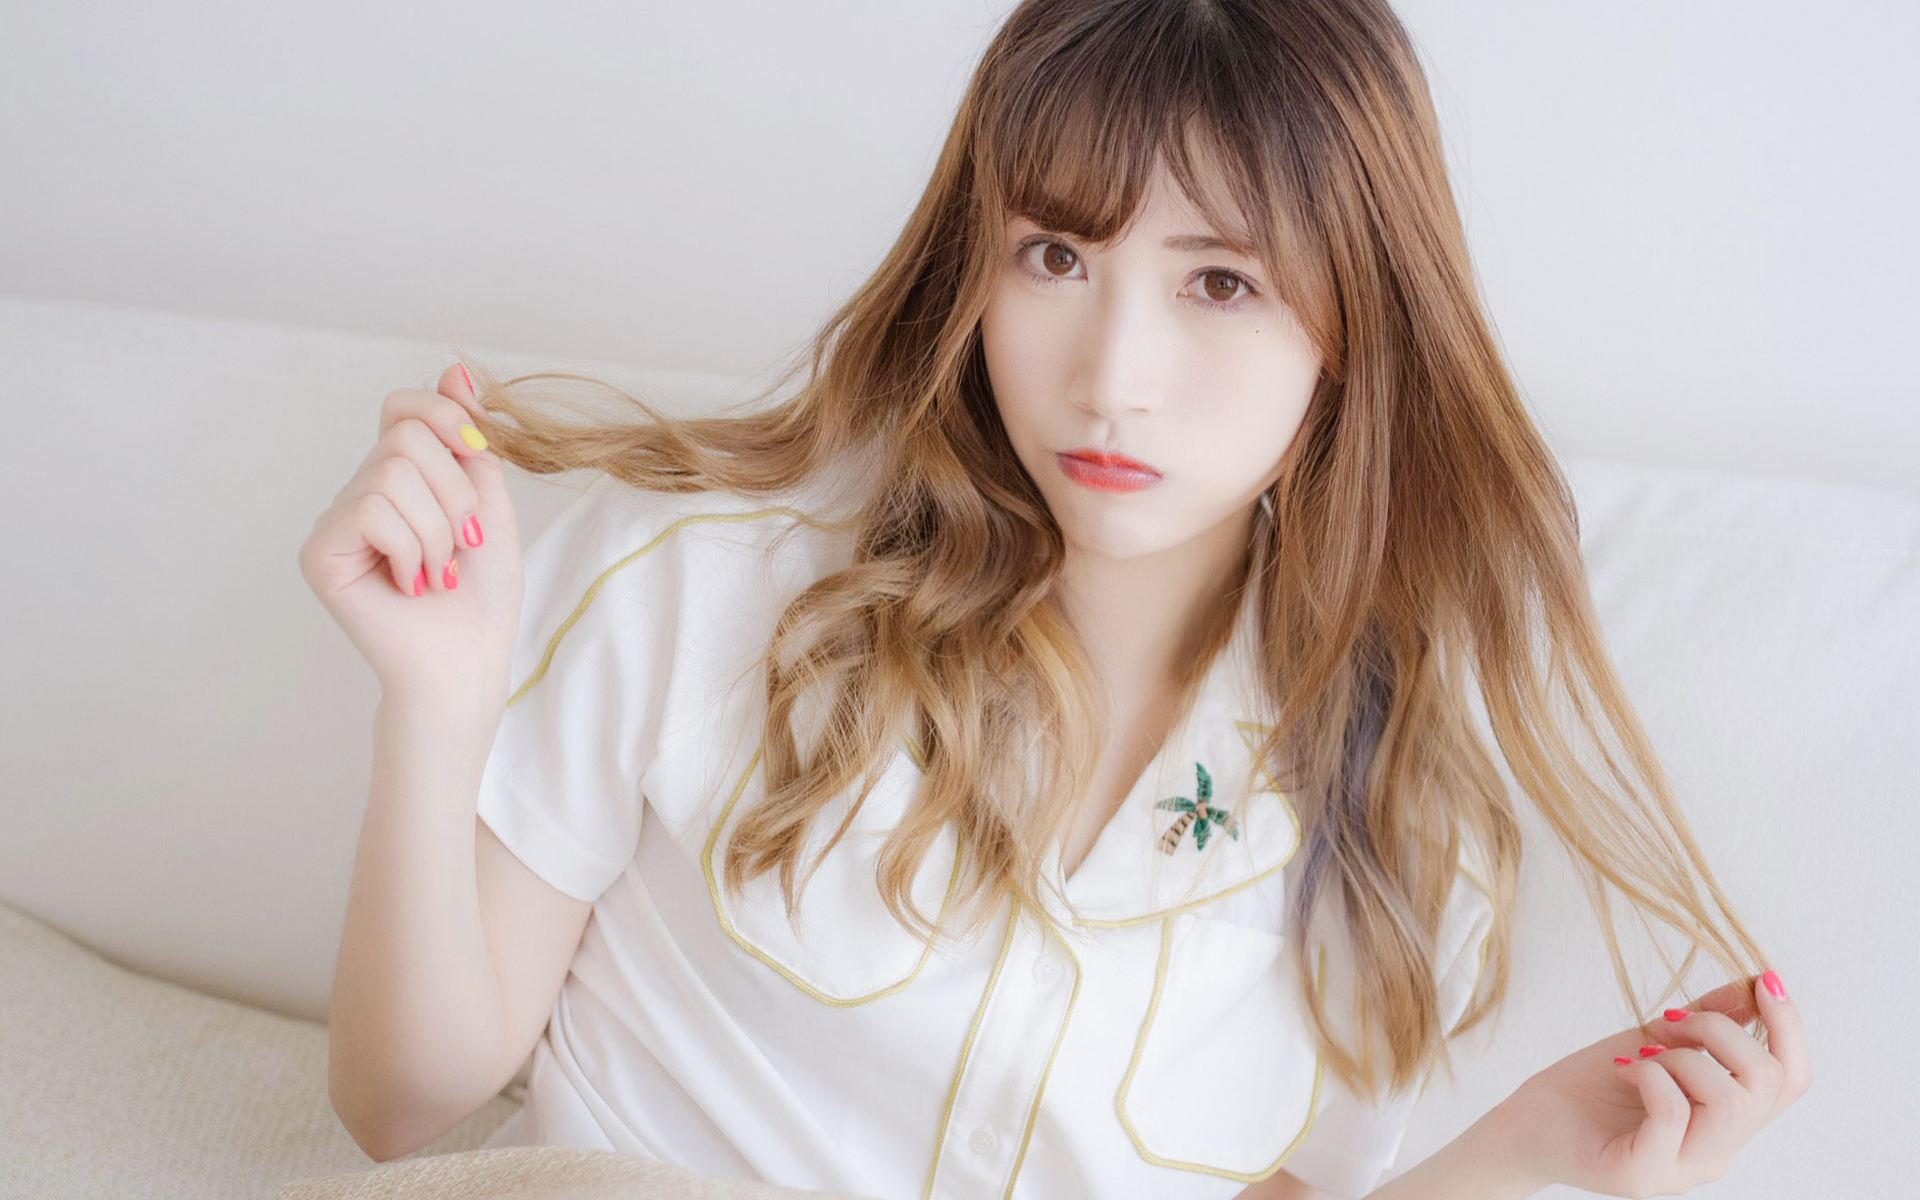person: (425, 1, 1865, 1145)
